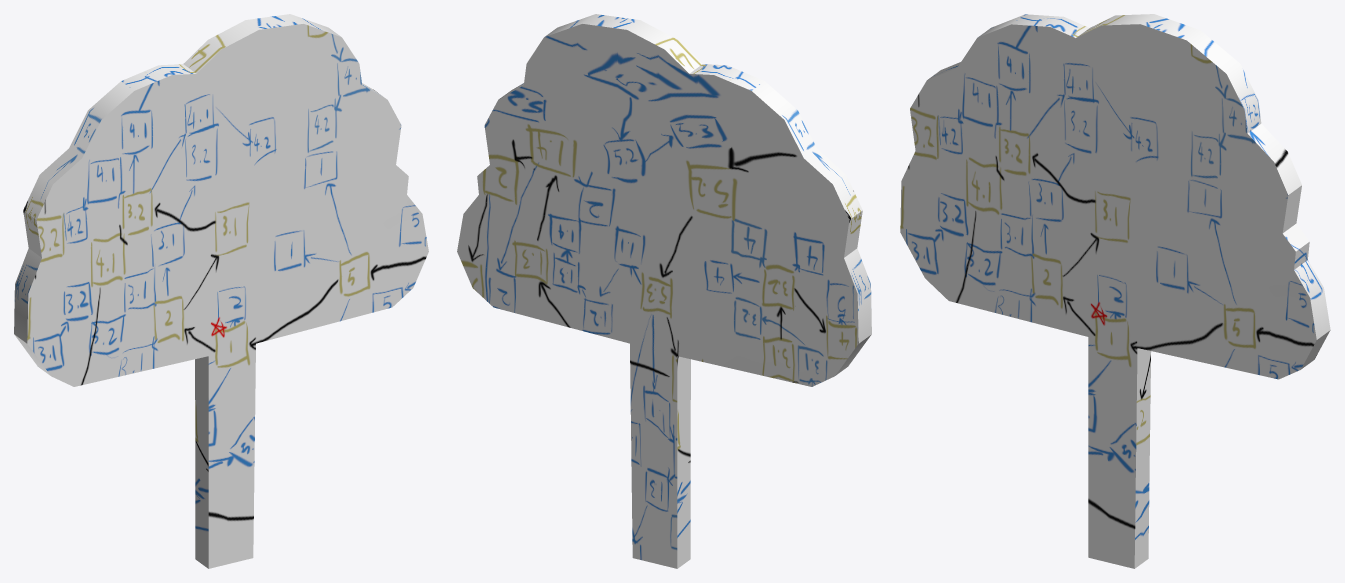
File: mhy_bush.fbx
3 views of the same model, side by side, from view 1: azimuth 30°, elevation 25°; view 2: azimuth 150°, elevation 25°; view 3: azimuth 330°, elevation 25° (orthographic). The views are drawn at different scales.
Visible parts, largest first — view 1: bush; view 2: bush; view 3: bush.
Part boxes in pixels (x1,y1,x2,y2): bush: [14, 14, 428, 568]; bush: [457, 14, 871, 568]; bush: [900, 14, 1330, 568].
Bounding box in the file's own units: 86.81 × 109 × 5.
